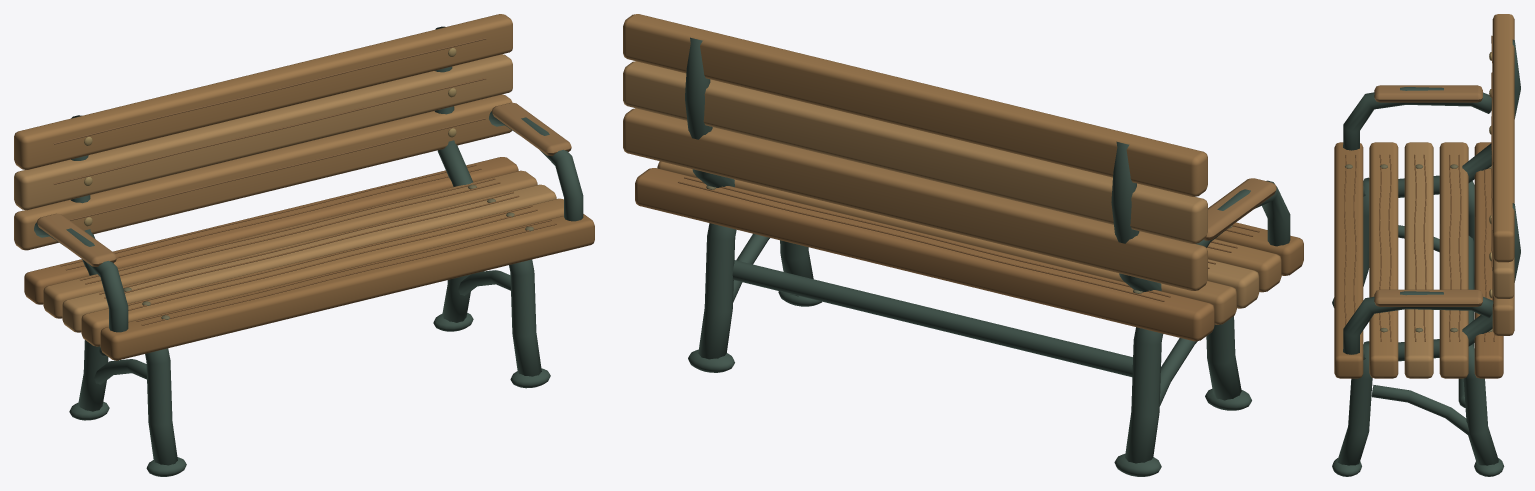
File: bench.glb
3 renders of one model, left to right at view 1: azimuth 30°, elevation 25°; view 2: azimuth 150°, elevation 25°; view 3: azimuth 270°, elevation 25°, orthographic. The views are drawn at different scales.
Visible parts, largest first — view 1: bench_World_Mesh; view 2: bench_World_Mesh; view 3: bench_World_Mesh.
Boxes of the visible parts, <box> form: bench_World_Mesh: <box>14,14,594,476</box>; bench_World_Mesh: <box>623,14,1303,476</box>; bench_World_Mesh: <box>1332,14,1520,476</box>.
Bounding box in the file's own units: 1.73 × 0.9825 × 0.6254.
